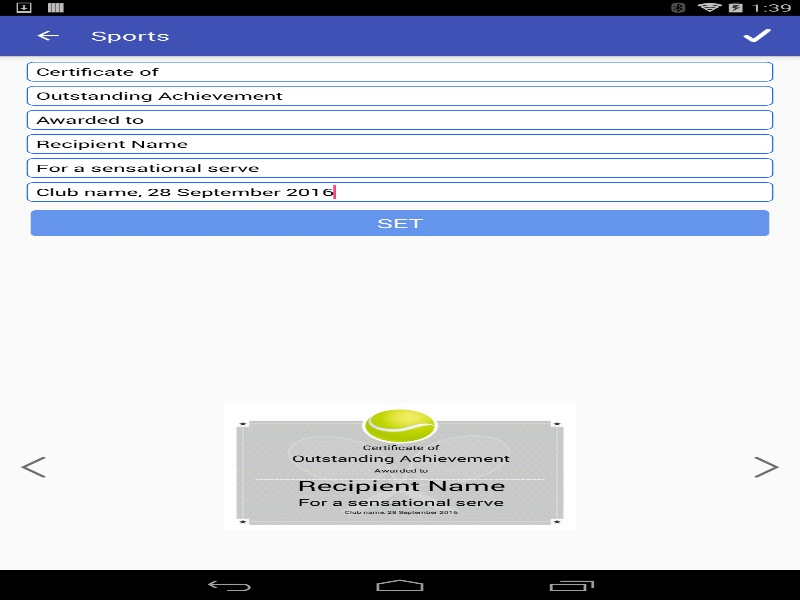Button: (26, 208, 773, 238), (10, 18, 85, 53)
Input: (26, 61, 773, 81), (26, 85, 773, 105), (26, 109, 773, 129), (26, 134, 773, 153), (26, 158, 773, 177), (26, 182, 773, 201)
